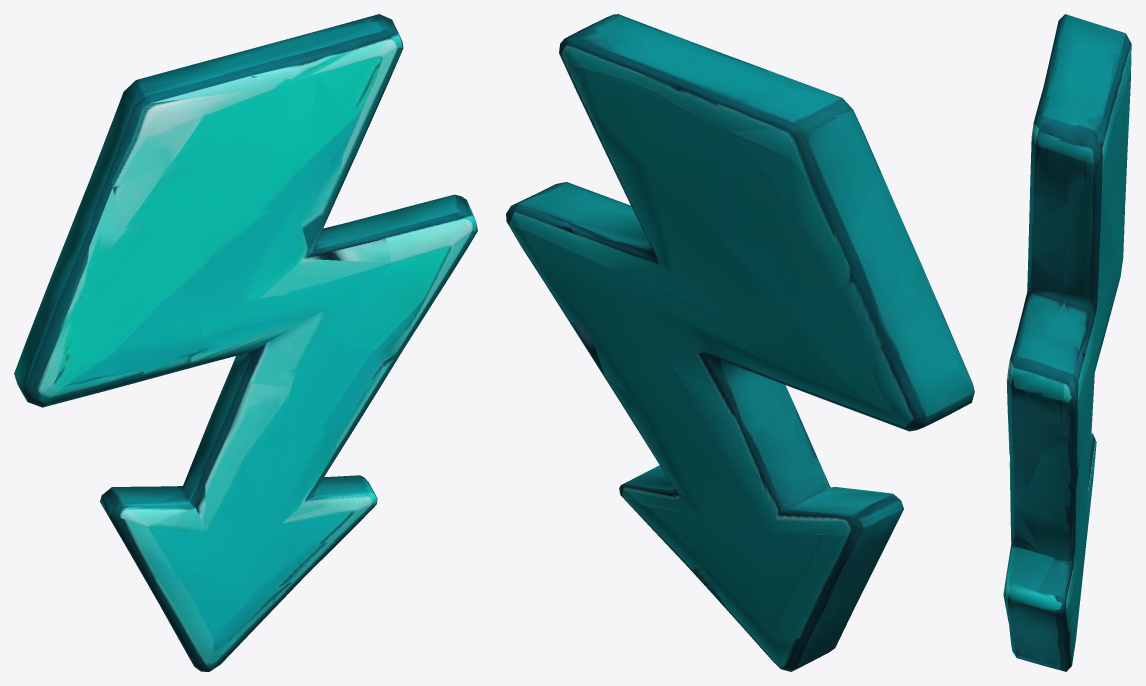
The model's file is boost.glb.
3 views of the same model, side by side, from view 1: azimuth 30°, elevation 25°; view 2: azimuth 150°, elevation 25°; view 3: azimuth 270°, elevation 25° (orthographic). The views are drawn at different scales.
Visible parts, largest first — view 1: TripoBoost_Mesh; view 2: TripoBoost_Mesh; view 3: TripoBoost_Mesh.
Part boxes in pixels (box(x1,y1,x2,y2)): TripoBoost_Mesh: box(14, 14, 477, 671); TripoBoost_Mesh: box(506, 14, 974, 671); TripoBoost_Mesh: box(1003, 14, 1131, 671).
Bounding box in the file's own units: 0.8 × 1 × 0.18.
1 material, 1 textured.
